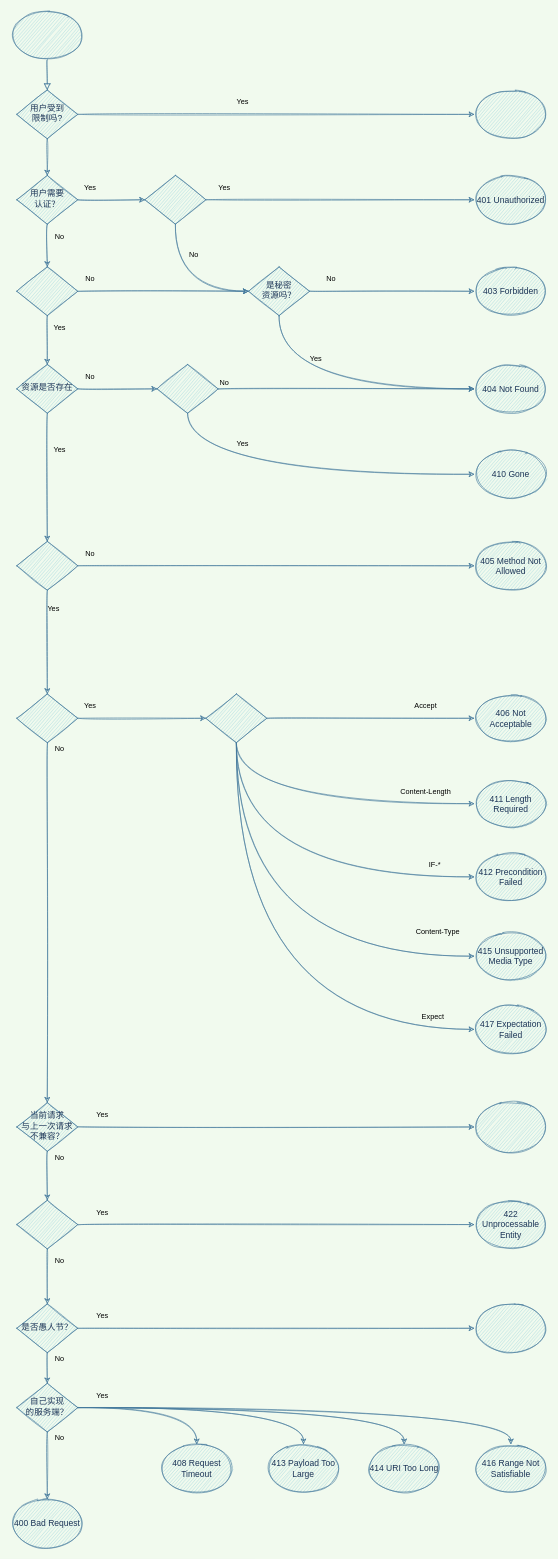
The diagram is 558 pixels wide and 1559 high, and some of its shapes have lost their labels. The centre of each missing label's shape, as x and y in pixels:
"409 Conflict" goes at (x=510, y=1126).
"418 I'm a teepot" goes at (x=510, y=1328).
"429 Too Many Requests" goes at (x=510, y=114).
"4xx响应" goes at (x=47, y=34).
"body无效？" goes at (x=47, y=1224).
"Header" goes at (x=236, y=718).
"headers 有问题?" goes at (x=47, y=718).
"使用HTTP 认证？" goes at (x=175, y=199).
"是资源注册 的Http方法" goes at (x=47, y=565).
"用户有访问 资源权限？" goes at (x=47, y=291).
"资源不可用？" goes at (x=187, y=388).
